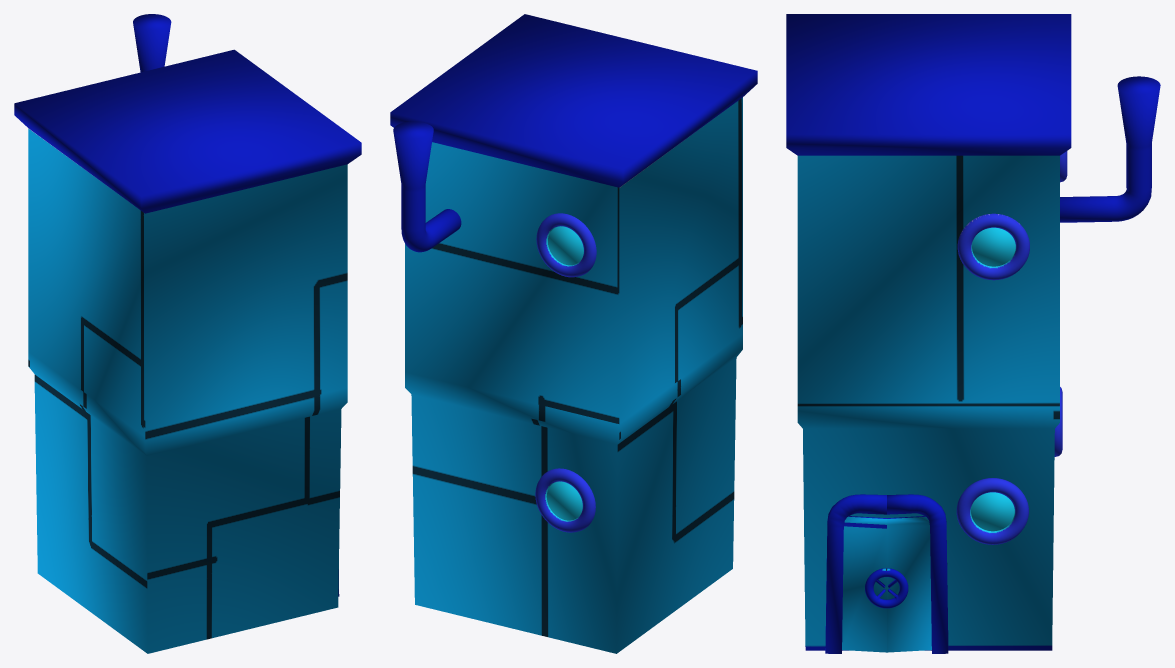
File: BikiniBottomHouse2.fbx
3 views of the same model, side by side, from view 1: azimuth 30°, elevation 25°; view 2: azimuth 150°, elevation 25°; view 3: azimuth 270°, elevation 25° (orthographic). The views are drawn at different scales.
Parts seen in each view (by area): view 1: Cube, Cylinder; view 2: Cube, Cylinder, Cylinder_004, Cylinder_003; view 3: Cube, Plane, Cylinder, Cylinder_001, Cylinder_002, Torus.
Part boxes in pixels (x1,y1,x2,y2): Cube: [14, 49, 361, 653]; Cylinder: [133, 14, 171, 72]; Cube: [390, 14, 757, 653]; Cylinder: [393, 121, 461, 252]; Cylinder_004: [535, 468, 595, 532]; Cylinder_003: [536, 213, 596, 277]; Cube: [786, 14, 1071, 650]; Plane: [825, 494, 948, 653]; Cylinder: [1060, 76, 1160, 222]; Cylinder_001: [956, 478, 1028, 544]; Cylinder_002: [957, 213, 1029, 280]; Torus: [865, 568, 908, 608].
Size of the model in its own units: 5.2 by 10.98 by 6.83.
